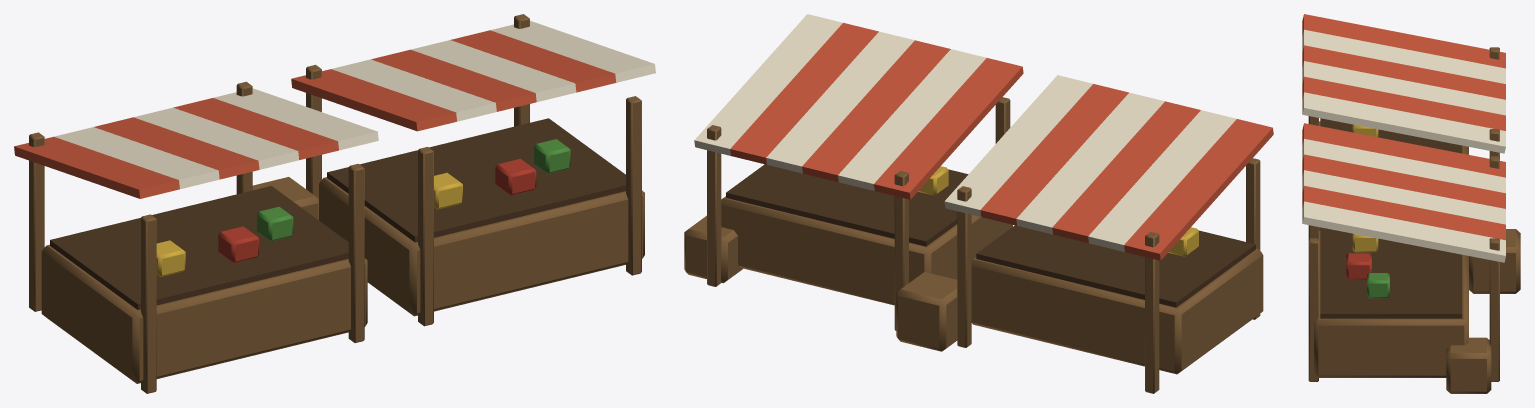
Rendered from market.glb.
3 views of the same model, side by side, from view 1: azimuth 30°, elevation 25°; view 2: azimuth 150°, elevation 25°; view 3: azimuth 270°, elevation 25° (orthographic). The views are drawn at different scales.
Visible parts, largest first — view 1: building; view 2: building; view 3: building.
Boxes of the visible parts, x1,y1,x2,y2 form: building: (14, 14, 655, 393); building: (684, 14, 1273, 393); building: (1302, 14, 1520, 393).
Bounding box in the file's own units: 3.89 × 1.45 × 1.69.
